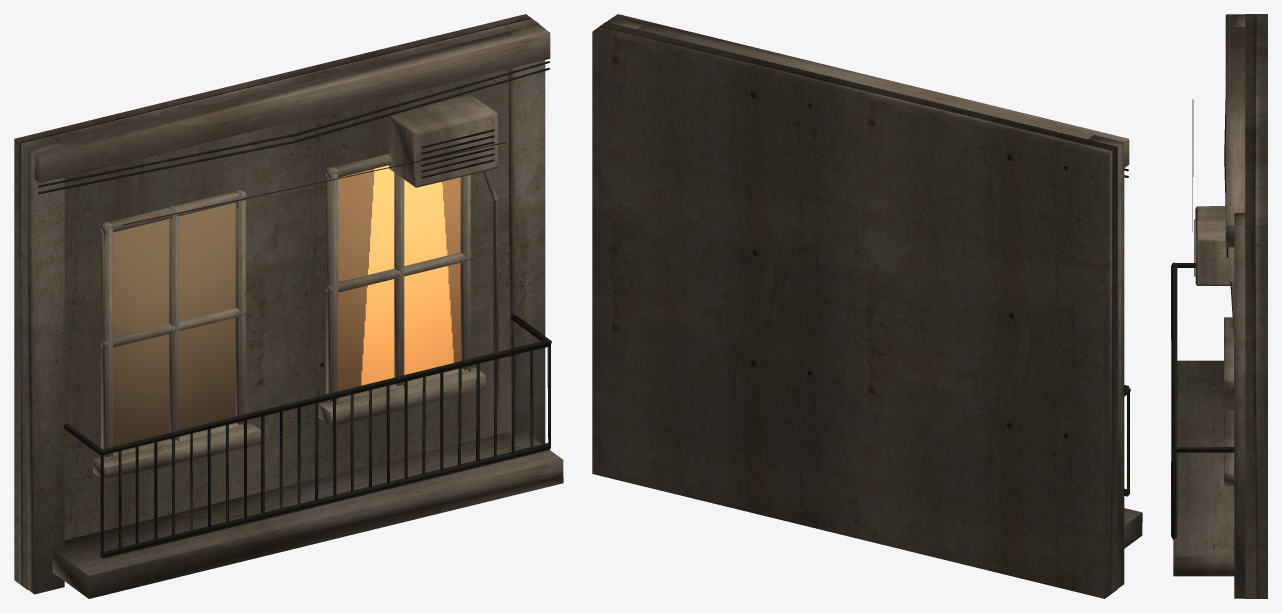
The model's file is mat_tien_tang_02_lod1.glb.
3 renders of one model, left to right at view 1: azimuth 30°, elevation 25°; view 2: azimuth 150°, elevation 25°; view 3: azimuth 270°, elevation 25°, orthographic. The views are drawn at different scales.
Parts seen in each view (by area): view 1: mat_tien_tang_02.001; view 2: mat_tien_tang_02.001; view 3: mat_tien_tang_02.001.
Part boxes in pixels (box(x1,y1,x2,y2)): mat_tien_tang_02.001: box(14, 14, 563, 598); mat_tien_tang_02.001: box(592, 14, 1142, 598); mat_tien_tang_02.001: box(1171, 14, 1267, 598).
Bounding box in the file's own units: 4 × 3.3 × 0.7749.
3 materials, 2 textured.
